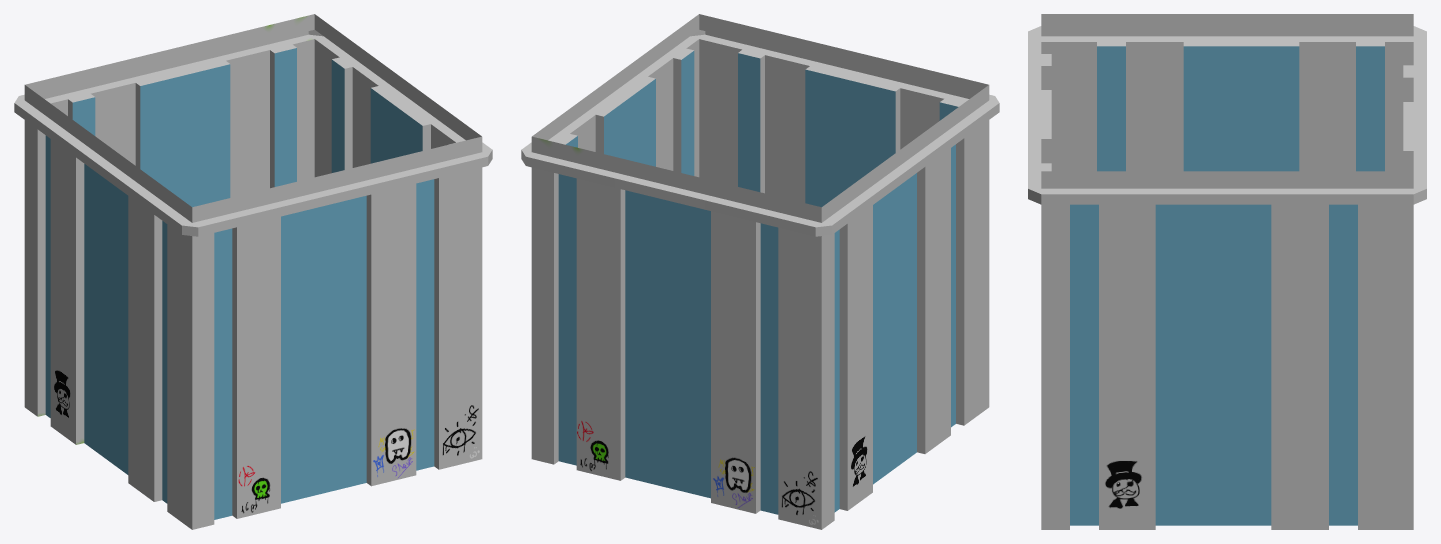
Rendered from Edificio_ventanal.fbx.
3 renders of one model, left to right at view 1: azimuth 30°, elevation 25°; view 2: azimuth 150°, elevation 25°; view 3: azimuth 270°, elevation 25°, orthographic. The views are drawn at different scales.
Parts seen in each view (by area): view 1: Edificio_ventanallargo.003; view 2: Edificio_ventanallargo.003; view 3: Edificio_ventanallargo.003.
Boxes of the visible parts, box(x1,y1,x2,y2) form: Edificio_ventanallargo.003: box(14, 14, 492, 529); Edificio_ventanallargo.003: box(521, 14, 999, 529); Edificio_ventanallargo.003: box(1028, 14, 1426, 529).
Size of the model in its own units: 5100 by 5061 by 5100.
Materials: 1 (1 with a texture image).
